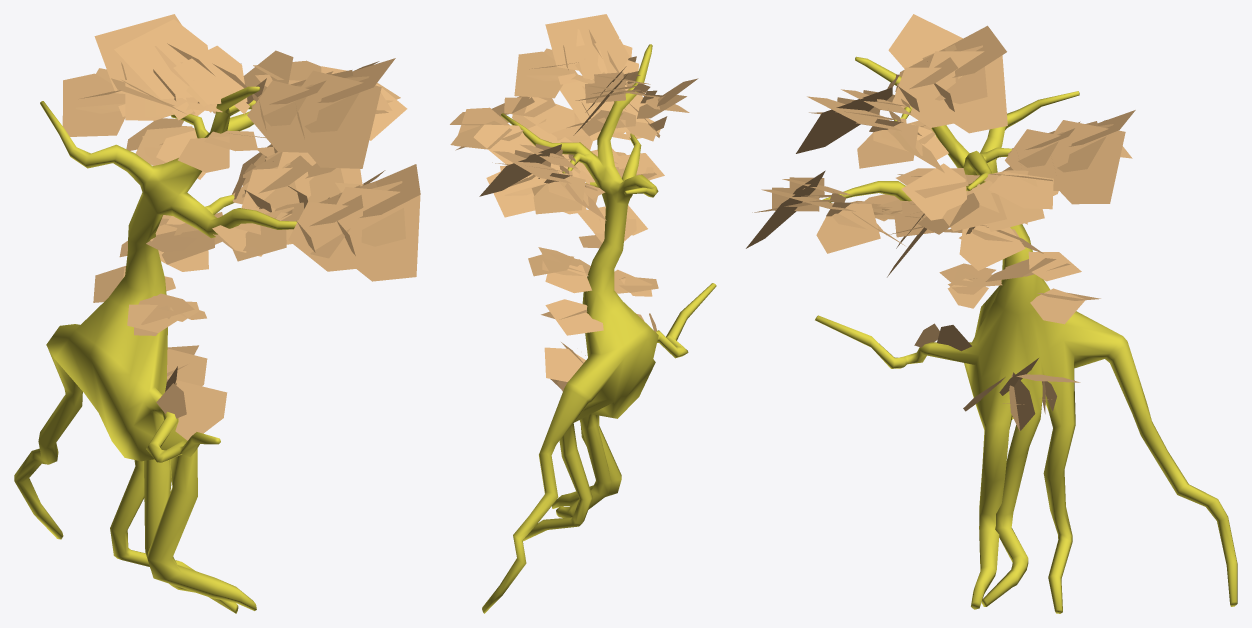
File: tree_ancient_angkor.fbx
The picture shows the model from 3 angles, left to right: view 1: azimuth 30°, elevation 25°; view 2: azimuth 150°, elevation 25°; view 3: azimuth 270°, elevation 25°; orthographic projection. The views are drawn at different scales.
Parts seen in each view (by area): view 1: L6 base tree_leaves, L6 base tree_wood; view 2: L6 base tree_leaves, L6 base tree_wood; view 3: L6 base tree_leaves, L6 base tree_wood.
Part boxes in pixels (x1,y1,x2,y2): L6 base tree_leaves: (62, 14, 420, 440); L6 base tree_wood: (14, 86, 297, 613); L6 base tree_leaves: (450, 14, 698, 391); L6 base tree_wood: (482, 44, 716, 613); L6 base tree_leaves: (746, 14, 1135, 431); L6 base tree_wood: (815, 56, 1237, 613).
Size of the model in its own units: 104753 by 208743 by 169405.
